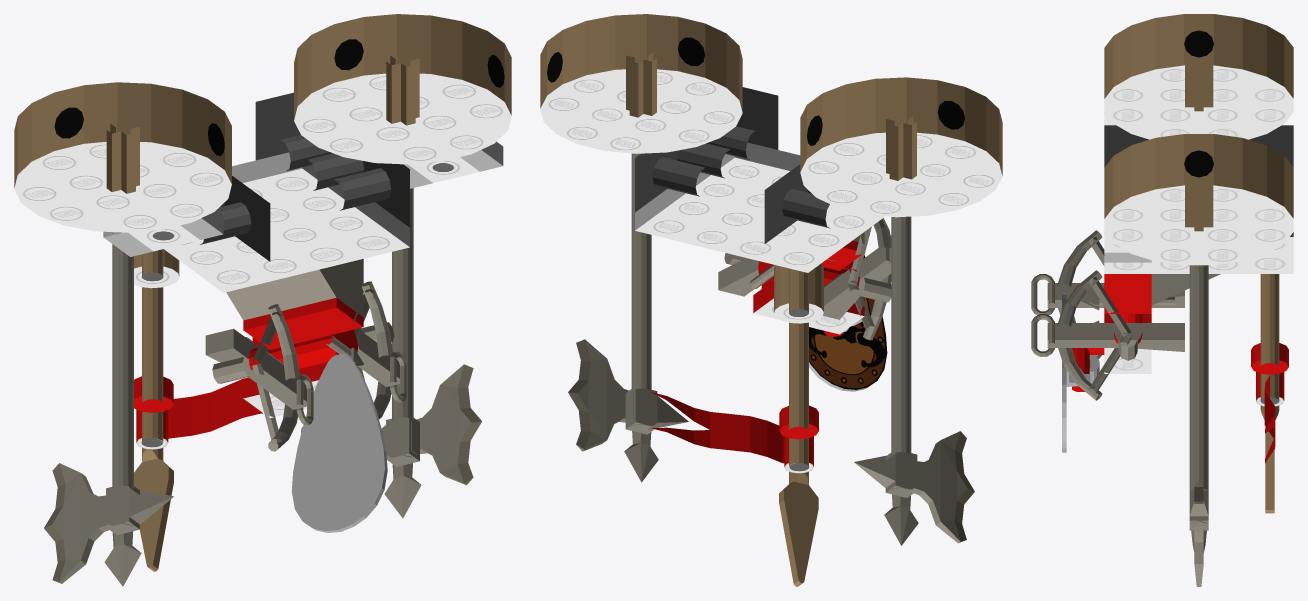
The picture shows the model from 3 angles, left to right: view 1: azimuth 30°, elevation 25°; view 2: azimuth 150°, elevation 25°; view 3: azimuth 270°, elevation 25°; orthographic projection. The views are drawn at different scales.
Visible parts, largest first — view 1: 004_OC_4806B3_PART_1, 088_OC_4806B2_Wheel_85, 083_shape35, 077_shape31, 051_shape17, 071_shape31, 057_shape21, 048_shape16, 062_shape24, 041_shape16, 032_SCL_Castle___OC4806B3___Flag, 025_OC_4806B3_PART_11 (+3 smaller); view 2: 004_OC_4806B3_PART_1, 088_OC_4806B2_Wheel_85, 083_shape35, 077_shape31, 071_shape31, 062_shape24, 051_shape17, 048_shape16, 032_SCL_Castle___OC4806B3___Flag, 057_shape21, 066_shape28, 029_OC_4806B3_PART_13.2 (+1 smaller); view 3: 088_OC_4806B2_Wheel_85, 004_OC_4806B3_PART_1, 041_shape16, 071_shape31, 057_shape21, 083_shape35, 062_shape24, 048_shape16, 029_OC_4806B3_PART_13.2, 051_shape17, 022_OC_4806B3_PART_12, 032_SCL_Castle___OC4806B3___Flag.
Part boxes in pixels (x1=…): 004_OC_4806B3_PART_1: x1=14, y1=82, x2=231, y2=232; 088_OC_4806B2_Wheel_85: x1=294, y1=14, x2=511, y2=164; 083_shape35: x1=164, y1=92, x2=409, y2=292; 077_shape31: x1=44, y1=244, x2=173, y2=586; 051_shape17: x1=291, y1=353, x2=387, y2=532; 071_shape31: x1=381, y1=188, x2=481, y2=518; 057_shape21: x1=226, y1=259, x2=363, y2=418; 048_shape16: x1=205, y1=304, x2=313, y2=451; 062_shape24: x1=134, y1=249, x2=173, y2=571; 041_shape16: x1=353, y1=281, x2=406, y2=419; 032_SCL_Castle___OC4806B3___Flag: x1=170, y1=377, x2=262, y2=438; 025_OC_4806B3_PART_11: x1=103, y1=210, x2=223, y2=256; 004_OC_4806B3_PART_1: x1=800, y1=77, x2=1002, y2=217; 088_OC_4806B2_Wheel_85: x1=540, y1=14, x2=742, y2=153; 083_shape35: x1=635, y1=87, x2=884, y2=272; 077_shape31: x1=854, y1=216, x2=974, y2=545; 071_shape31: x1=568, y1=153, x2=688, y2=482; 062_shape24: x1=779, y1=268, x2=818, y2=586; 051_shape17: x1=809, y1=255, x2=887, y2=391; 048_shape16: x1=823, y1=218, x2=891, y2=340; 032_SCL_Castle___OC4806B3___Flag: x1=651, y1=392, x2=781, y2=462; 057_shape21: x1=753, y1=232, x2=864, y2=336; 066_shape28: x1=774, y1=263, x2=823, y2=323; 029_OC_4806B3_PART_13.2: x1=779, y1=405, x2=818, y2=473; 088_OC_4806B2_Wheel_85: x1=1104, y1=134, x2=1293, y2=265; 004_OC_4806B3_PART_1: x1=1104, y1=14, x2=1293, y2=139; 041_shape16: x1=1031, y1=270, x2=1184, y2=400; 071_shape31: x1=1189, y1=265, x2=1208, y2=586; 057_shape21: x1=1072, y1=274, x2=1220, y2=391; 083_shape35: x1=1104, y1=125, x2=1293, y2=273; 062_shape24: x1=1260, y1=274, x2=1279, y2=513; 048_shape16: x1=1031, y1=230, x2=1184, y2=358; 029_OC_4806B3_PART_13.2: x1=1251, y1=343, x2=1288, y2=406; 051_shape17: x1=1062, y1=292, x2=1099, y2=452; 022_OC_4806B3_PART_12: x1=1104, y1=232, x2=1151, y2=262; 032_SCL_Castle___OC4806B3___Flag: x1=1264, y1=375, x2=1275, y2=462.
Bounding box in the file's own units: 8 × 8 × 4.44.
Materials: 11 (4 with a texture image).
